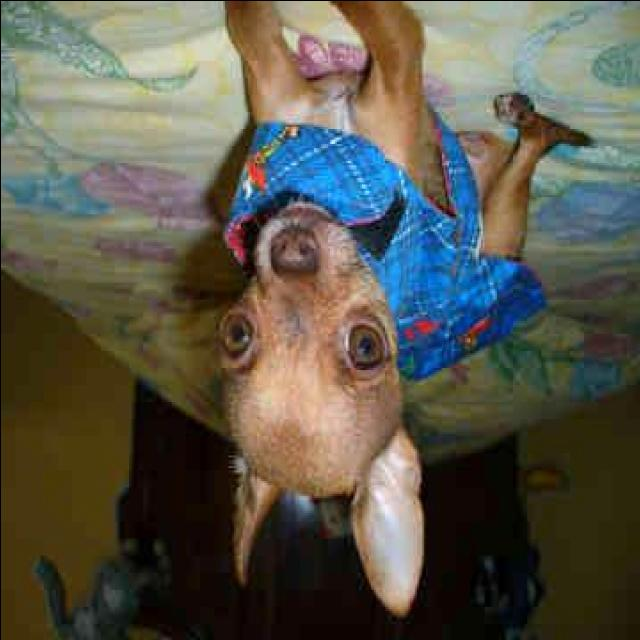chihuahua: (220, 4, 586, 610)
